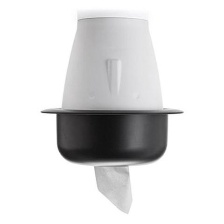plastic_box: (35, 11, 189, 173)
tissue: (88, 162, 138, 219)
